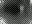person: (19, 5, 26, 16)
